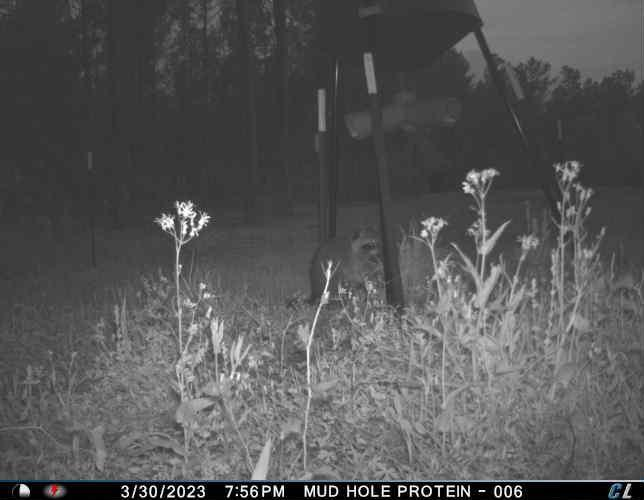Raccoon: (285, 226, 381, 309)
